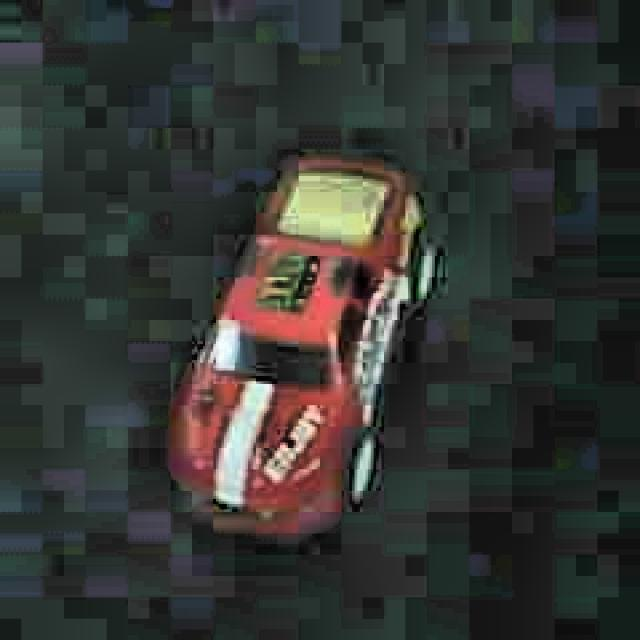car: (161, 146, 443, 543)
